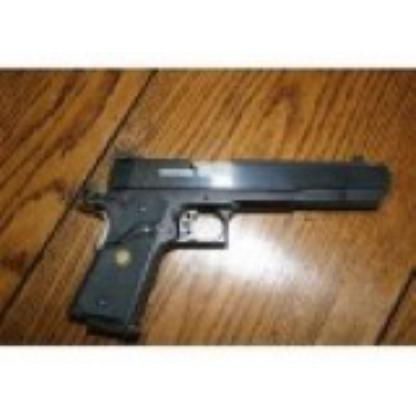gun: (73, 151, 393, 337)
